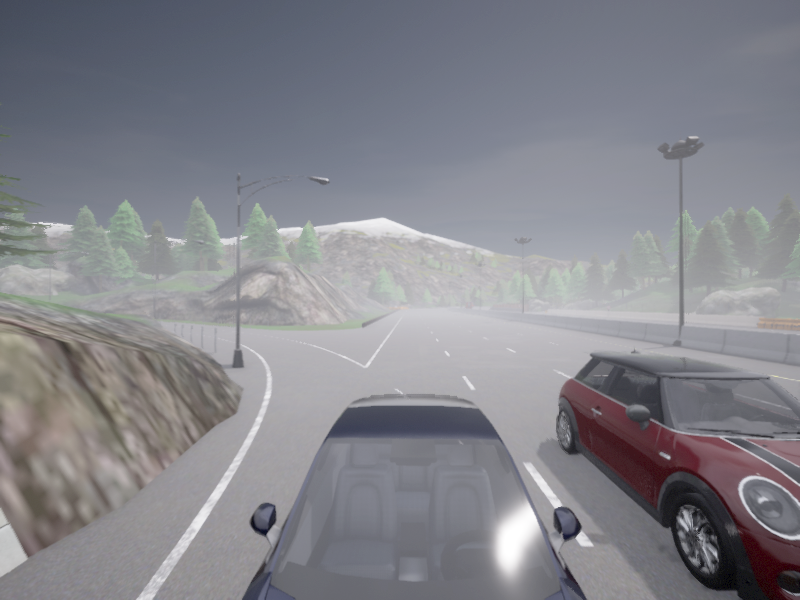vehicle: (242, 395, 586, 599), (557, 345, 799, 599), (466, 302, 473, 308)
